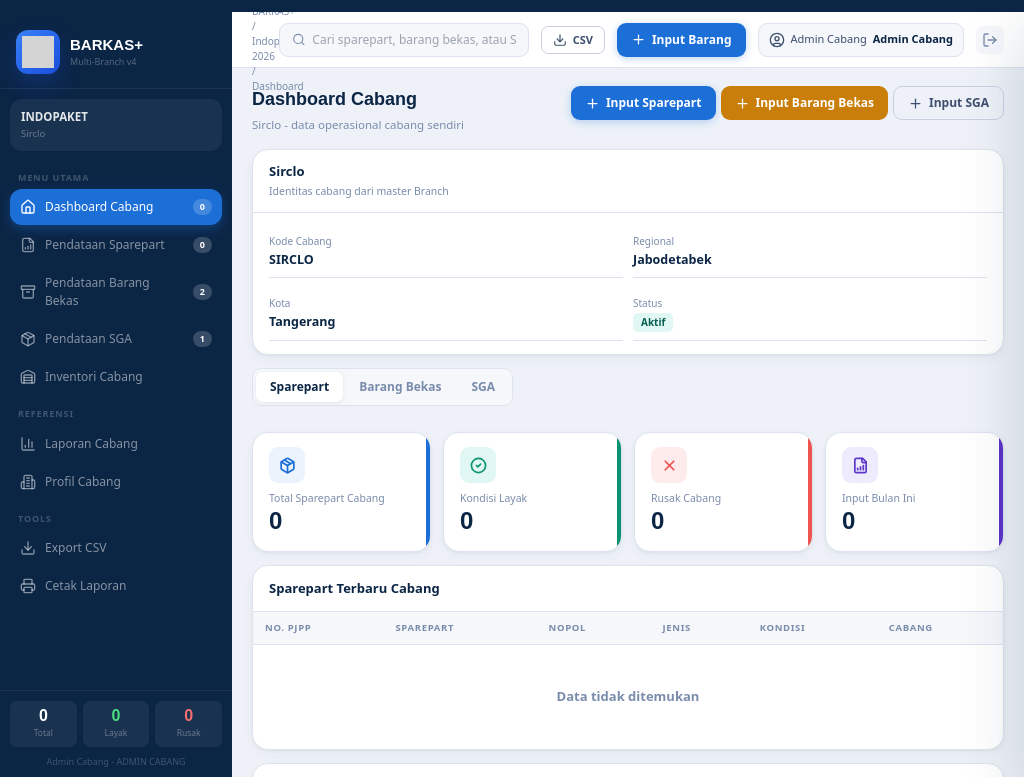
Test case: BarkasApp v3 UI › shows SGA tab on Dashboard Cabang with branch-scoped data
Expected: the button "Sparepart" is shown, 256,372 -> 343,402
Expected: the button "Barang Bekas" is shown, 345,372 -> 456,402
Click the button "SGA".
click(483, 387)  # box 458,372 -> 509,402
(page scrolled)
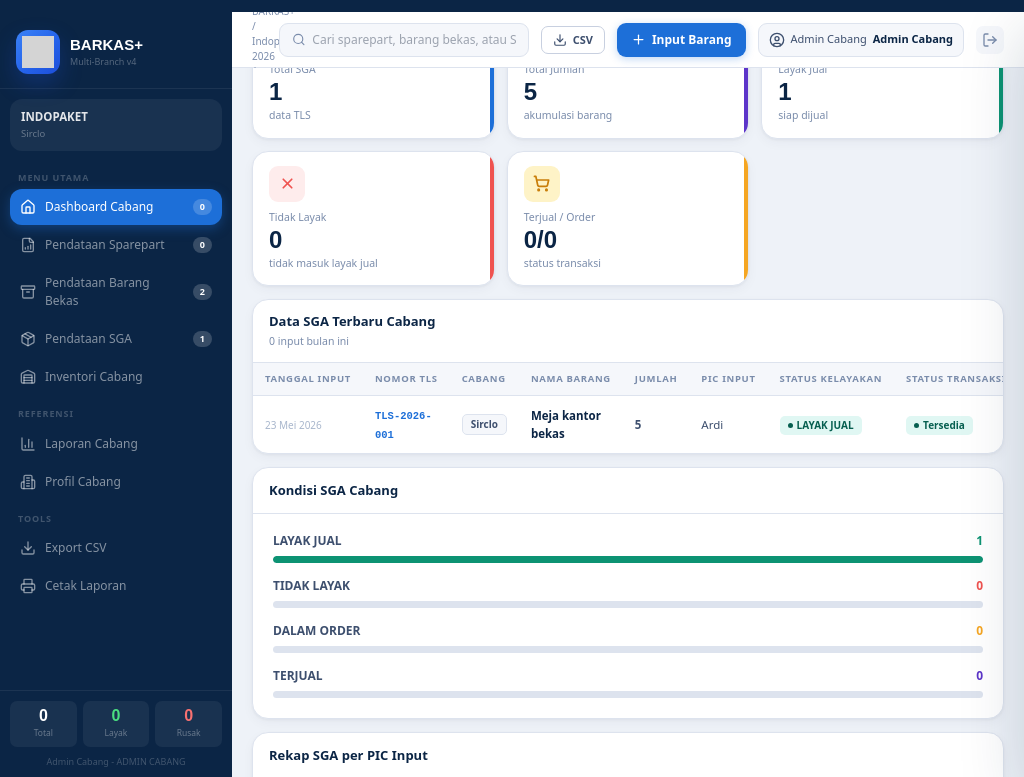
Expected: the text "Data SGA Terbaru Cabang" is shown, 269,312 -> 435,332
Expected: the text "Meja kantor bekas" is shown, 531,408 -> 601,441
